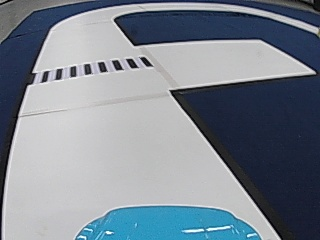CrossWalk: (32, 56, 150, 81)
